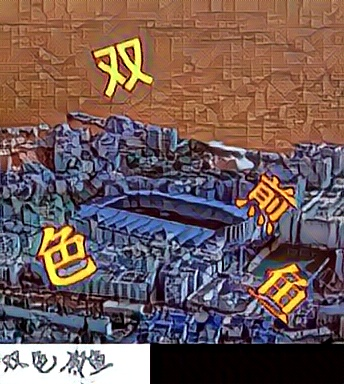BCE5: (235, 172, 299, 238)
C9AB: (32, 222, 96, 288)
CBAB: (90, 32, 154, 98)
D3E3: (247, 262, 311, 328)
